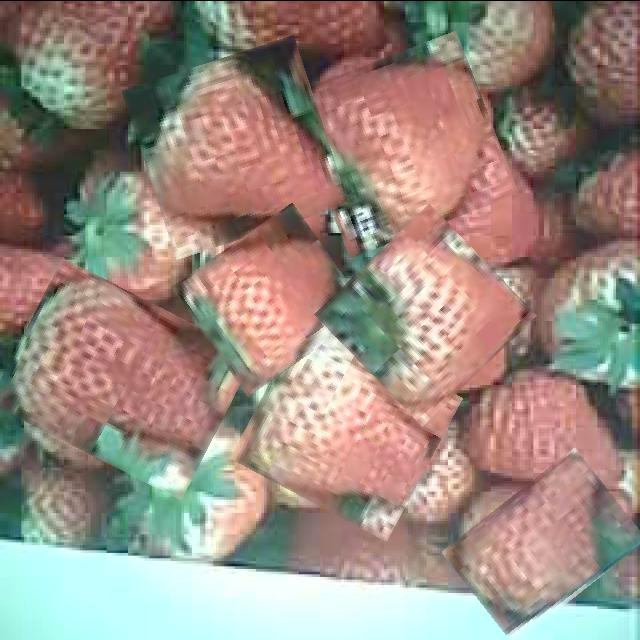strawberry: (2, 277, 242, 480), (300, 42, 507, 244), (134, 45, 338, 247), (243, 330, 450, 525), (329, 219, 522, 409), (451, 466, 638, 624), (183, 217, 357, 381)
